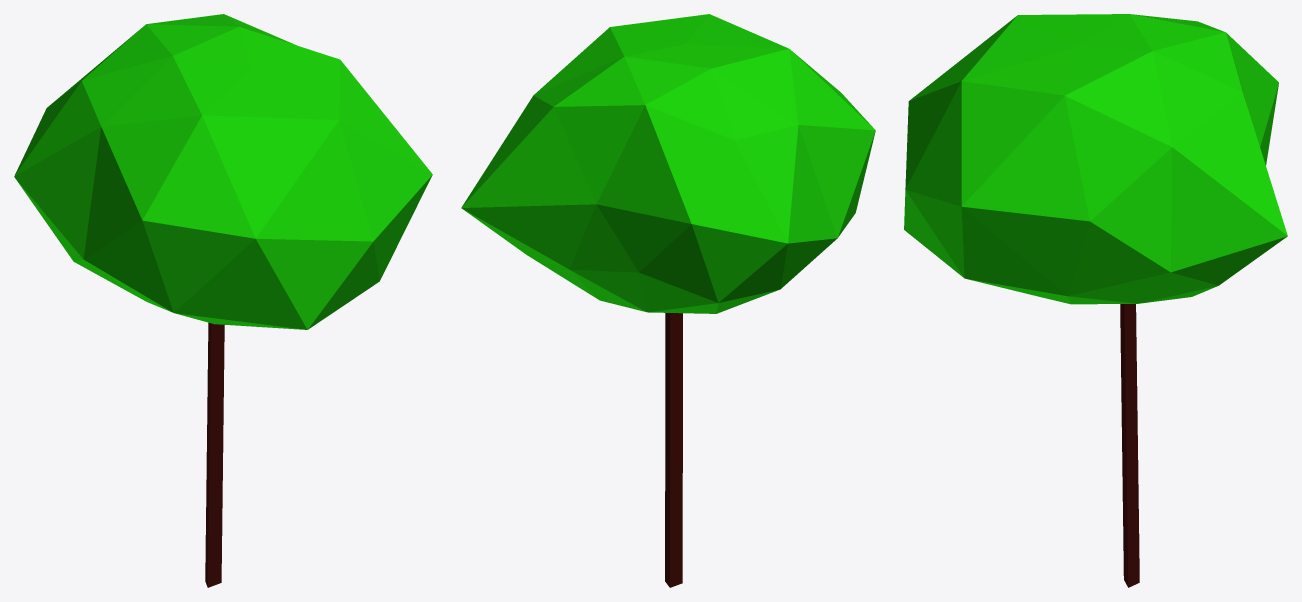
The model's file is arvore2.fbx.
3 renders of one model, left to right at view 1: azimuth 30°, elevation 25°; view 2: azimuth 150°, elevation 25°; view 3: azimuth 270°, elevation 25°, orthographic. The views are drawn at different scales.
Parts seen in each view (by area): view 1: Cone; view 2: Cone; view 3: Cone.
Part boxes in pixels (x1,y1,x2,y2): Cone: (14,14,432,587); Cone: (461,14,875,587); Cone: (904,14,1287,587).
Size of the model in its own units: 361 by 585 by 369.
